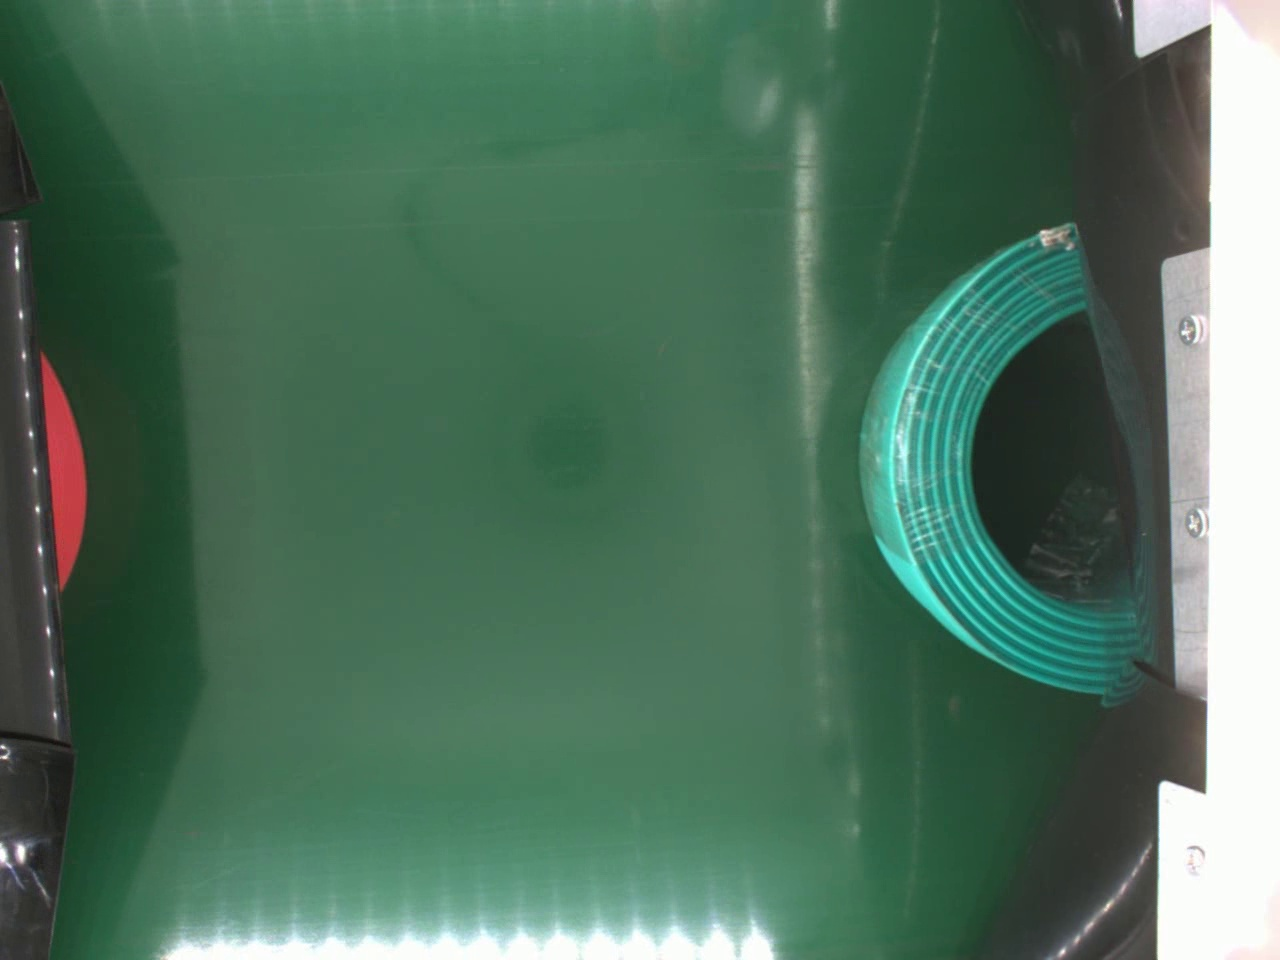green: (855, 221, 1150, 697)
